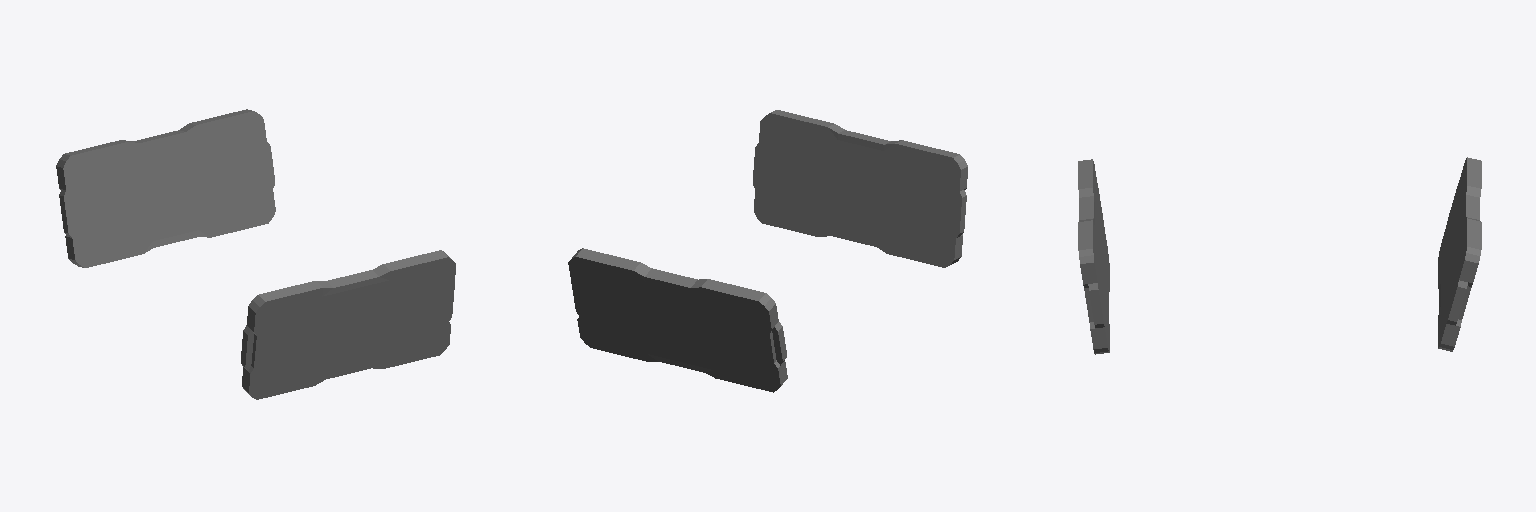
File: Sentry_DamageSensor.obj
3 views of the same model, side by side, from view 1: azimuth 30°, elevation 25°; view 2: azimuth 150°, elevation 25°; view 3: azimuth 270°, elevation 25° (orthographic).
Parts seen in each view (by area): view 1: polySurface11; view 2: polySurface11; view 3: polySurface11.
Part boxes in pixels (x1,y1,x2,y2): polySurface11: (56,109,455,399); polySurface11: (568,110,967,392); polySurface11: (1078,157,1481,354).
Size of the model in its own units: 0.2901 by 0.1447 by 0.4894.